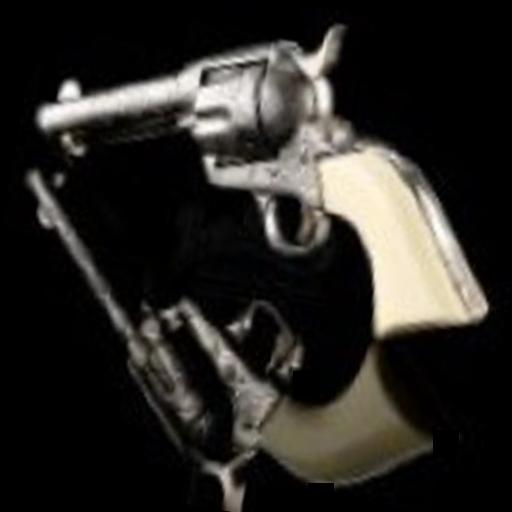Handgun: (10, 0, 512, 347)
